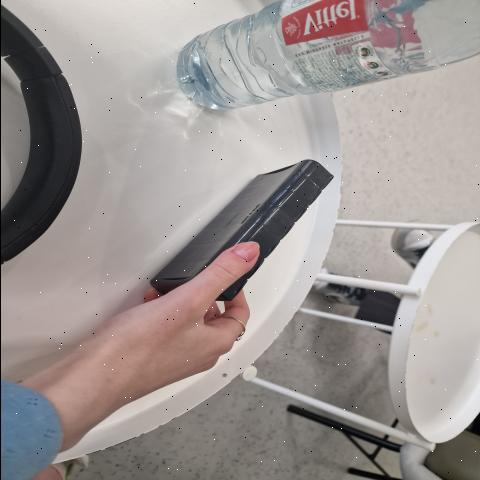PillBox: (138, 152, 354, 323)
